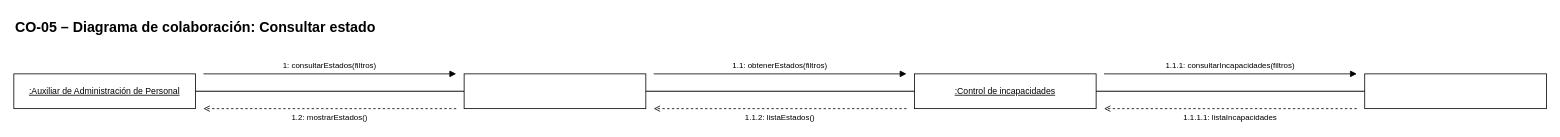
Image size: 1560x137. Some labels were removed from this diagram. The shapes that lost their labels are listed below. From the top down, each one's box as (x1, y1, x2, y2) in pixels, then its label:
(463, 73, 646, 109): :Interfaz de incapacidades
(1364, 73, 1546, 109): :Base de datos
